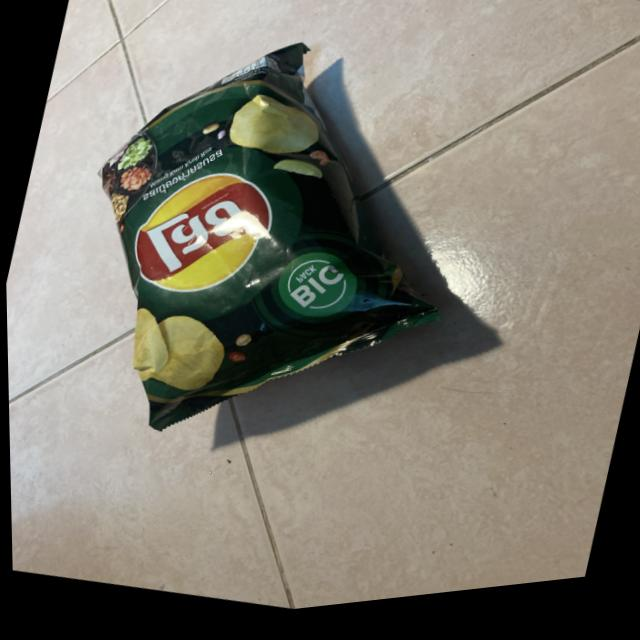Laygreen: (21, 0, 524, 537)
